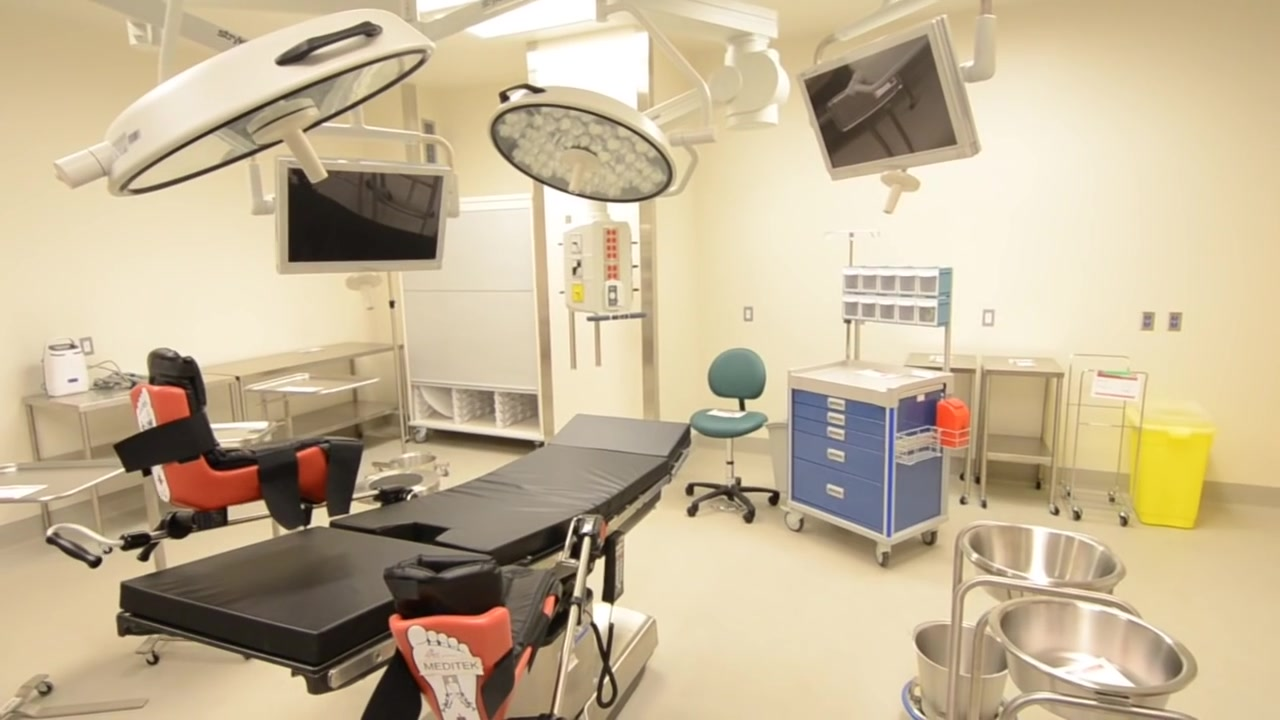bedside_monitor: (792, 9, 984, 185), (273, 144, 449, 278)
chair: (685, 346, 781, 525)
handle: (825, 425, 846, 442), (825, 395, 847, 411), (825, 411, 847, 426), (826, 483, 845, 500), (826, 447, 846, 463)
iv_pole: (818, 228, 883, 360)
medical_drawer: (778, 358, 949, 570)
operating_bed: (113, 412, 696, 720)
surgical_light: (108, 1, 437, 200), (489, 84, 683, 209)
utility_cart: (1, 461, 128, 720), (204, 343, 417, 469), (30, 389, 143, 533), (1061, 352, 1150, 529), (976, 354, 1066, 517), (896, 352, 984, 506), (248, 369, 380, 439)
waste_bin: (1125, 400, 1217, 531)
